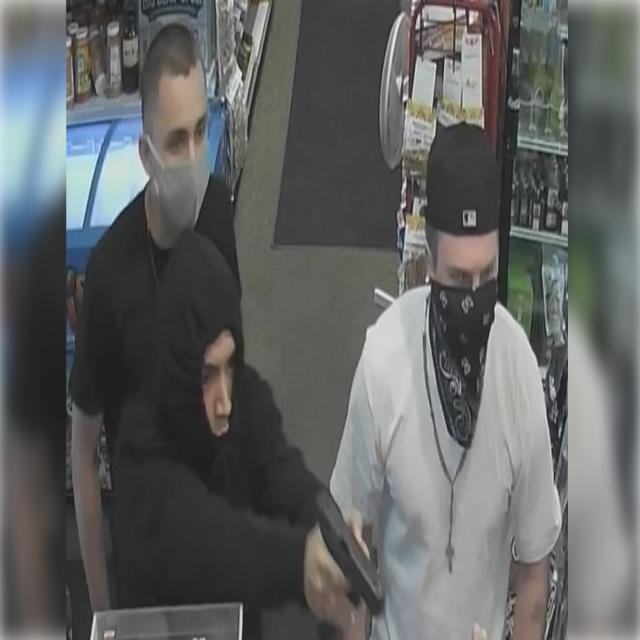pistol: (314, 462, 386, 640)
